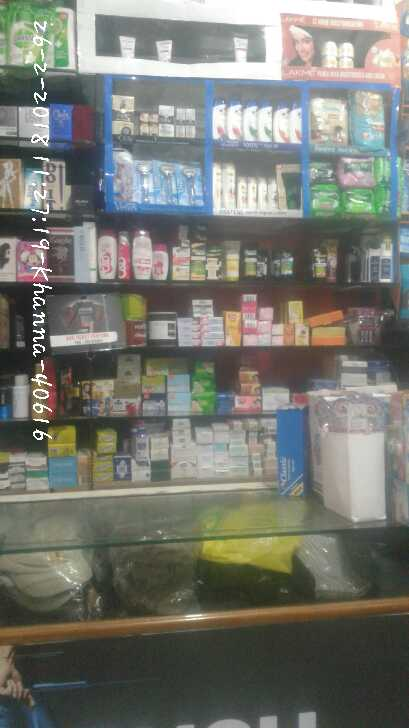venus: (155, 161, 180, 205), (180, 160, 202, 205), (136, 161, 155, 201)
